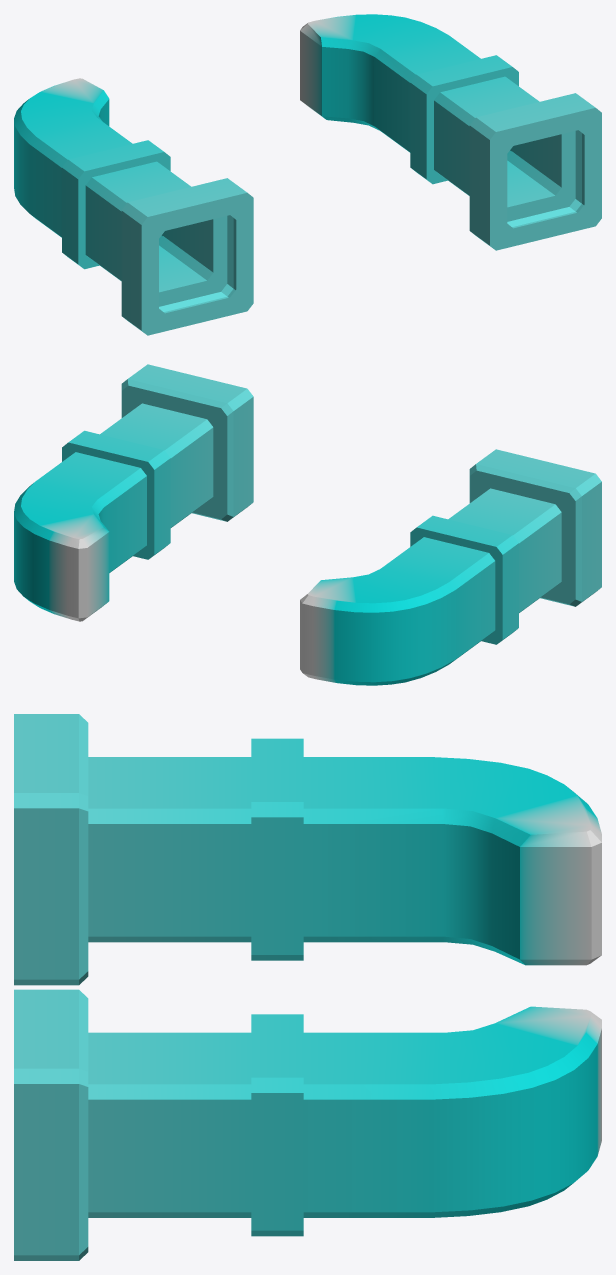
Rendered from scene1_portal.FBX.
The picture shows the model from 3 angles, top to bottom: view 1: azimuth 30°, elevation 25°; view 2: azimuth 150°, elevation 25°; view 3: azimuth 270°, elevation 25°; orthographic projection. The views are drawn at different scales.
Parts seen in each view (by area): view 1: scene1_portal; view 2: scene1_portal; view 3: scene1_portal.
Part boxes in pixels (x1,y1,x2,y2): scene1_portal: (14, 14, 601, 335); scene1_portal: (14, 364, 601, 685); scene1_portal: (14, 714, 601, 1260).
Bounding box in the file's own units: 186 × 45.84 × 127.
